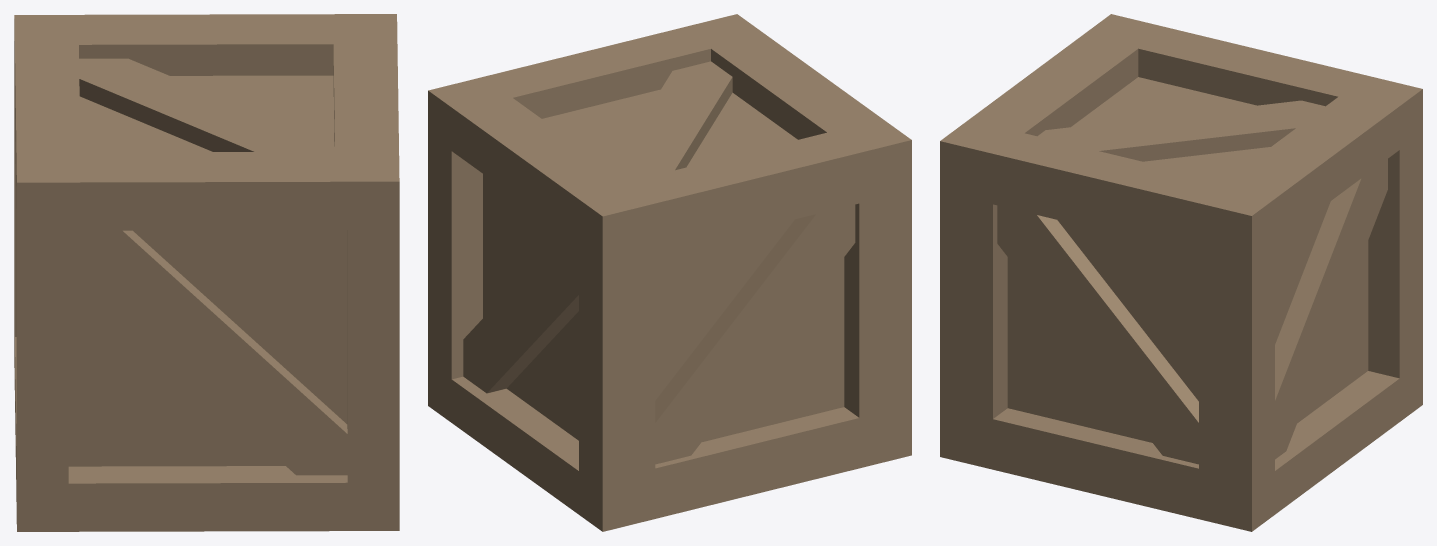
The picture shows the model from 3 angles, left to right: view 1: azimuth 30°, elevation 25°; view 2: azimuth 150°, elevation 25°; view 3: azimuth 270°, elevation 25°; orthographic projection. The views are drawn at different scales.
Visible parts, largest first — view 1: Cube.032; view 2: Cube.032; view 3: Cube.032.
Part boxes in pixels (x1,y1,x2,y2): Cube.032: (14,14,399,531); Cube.032: (428,14,911,531); Cube.032: (940,14,1422,531).
Bounding box in the file's own units: 82.68 × 60.27 × 83.5.
